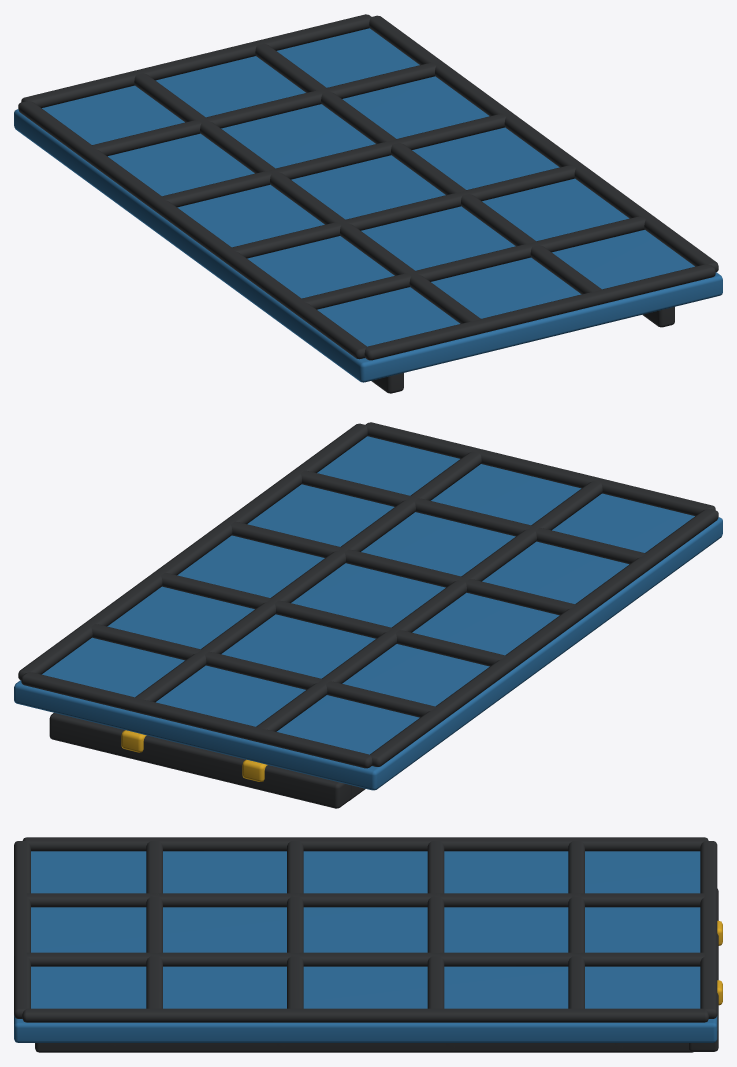
File: frame-3x5.glb
3 renders of one model, top to bottom at view 1: azimuth 30°, elevation 25°; view 2: azimuth 150°, elevation 25°; view 3: azimuth 270°, elevation 25°, orthographic.
Visible parts, largest first — view 1: rig-body; view 2: rig-body; view 3: rig-body.
Boxes of the visible parts, x1,y1,x2,y2 form: rig-body: (14,14,722,393); rig-body: (14,422,722,808); rig-body: (14,837,722,1052).
Size of the model in its own units: 3 by 0.46 by 5.04.
